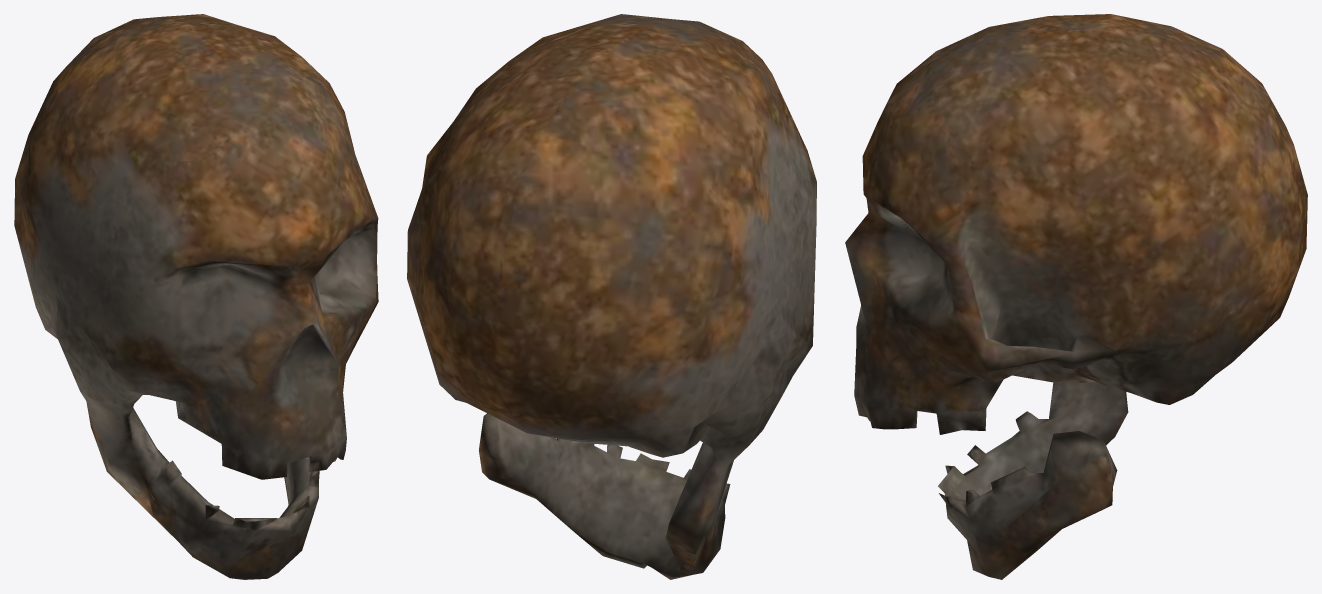
File: skull-lo.glb
3 renders of one model, left to right at view 1: azimuth 30°, elevation 25°; view 2: azimuth 150°, elevation 25°; view 3: azimuth 270°, elevation 25°, orthographic. The views are drawn at different scales.
Parts seen in each view (by area): view 1: defaultMaterial; view 2: defaultMaterial; view 3: defaultMaterial.
Part boxes in pixels (x1,y1,x2,y2): defaultMaterial: [14, 14, 378, 579]; defaultMaterial: [407, 14, 816, 579]; defaultMaterial: [845, 14, 1307, 579].
Size of the model in its own units: 15.25 by 26.13 by 20.44.
1 material, 1 textured.
